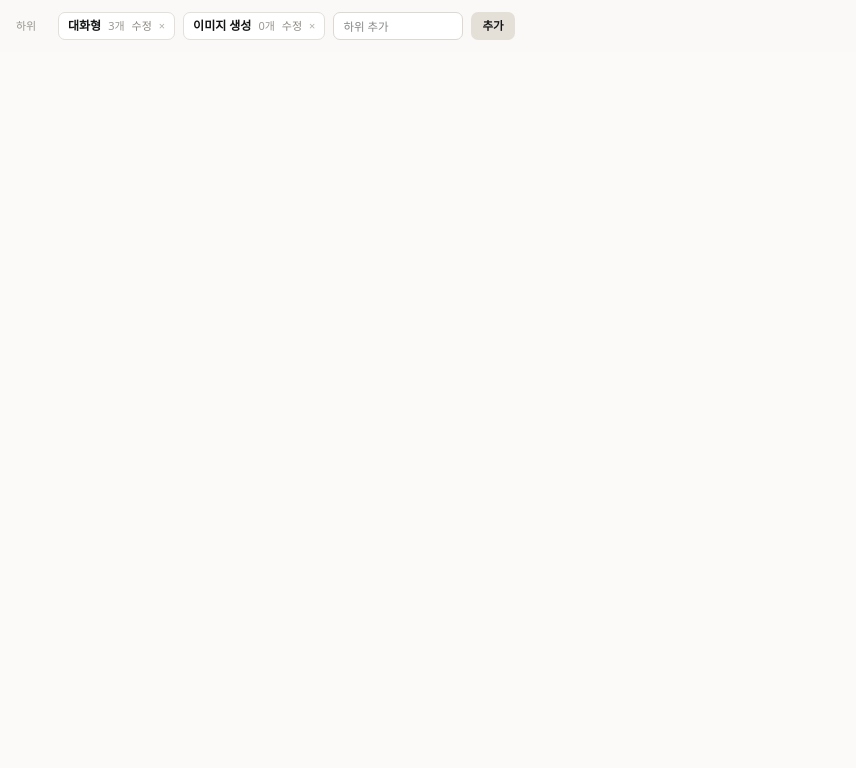
SubCategoryRow — 하위 추가 › 요청 자체가 거부되면 잠긴 채로 남지 않는다
Type "코딩 보조" into the field named "새 하위 카테고리".
click(398, 26); type("코딩 보조")  # box [333,12,463,40]
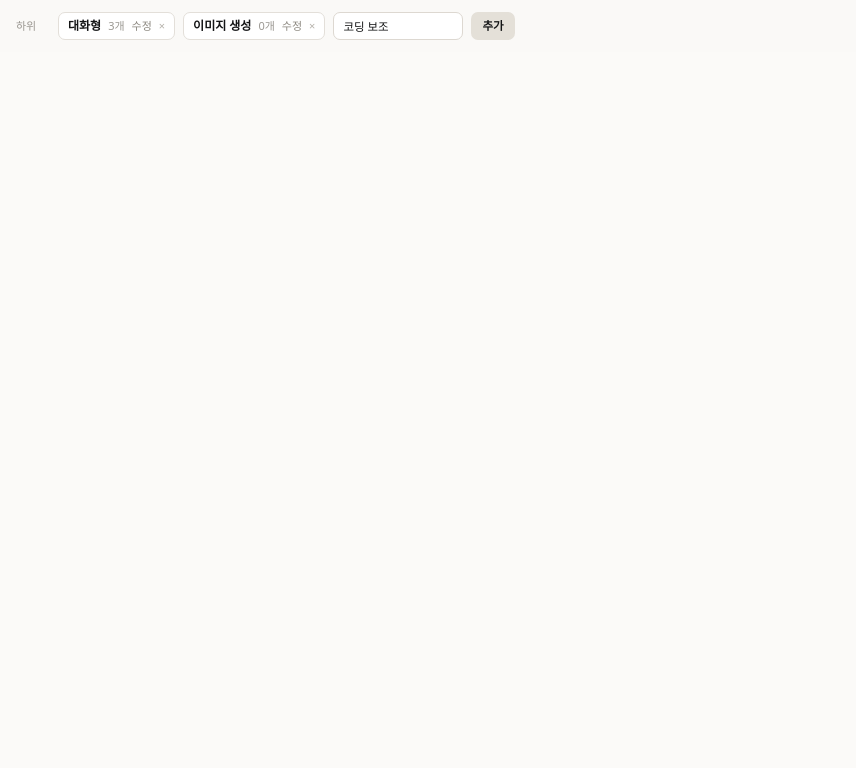
Click the button with aria-label "하위 카테고리 추가".
click(493, 26)  # box [471,12,515,40]
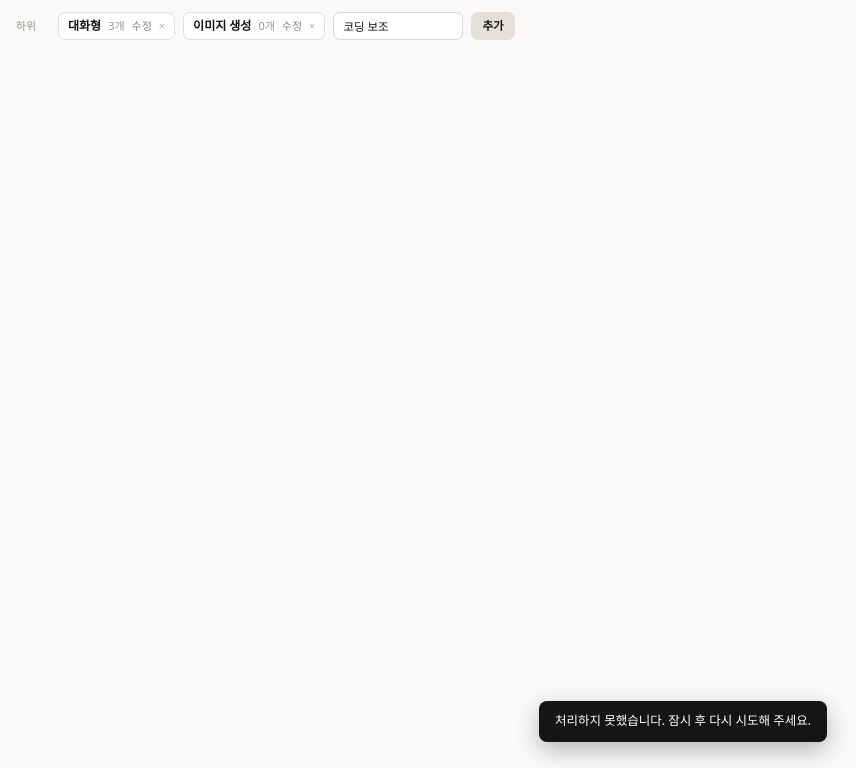
Now the message reads "처리하지 못했습니다. 잠시 후 다시 시도해 주세요.", box [555,712,811,729]
